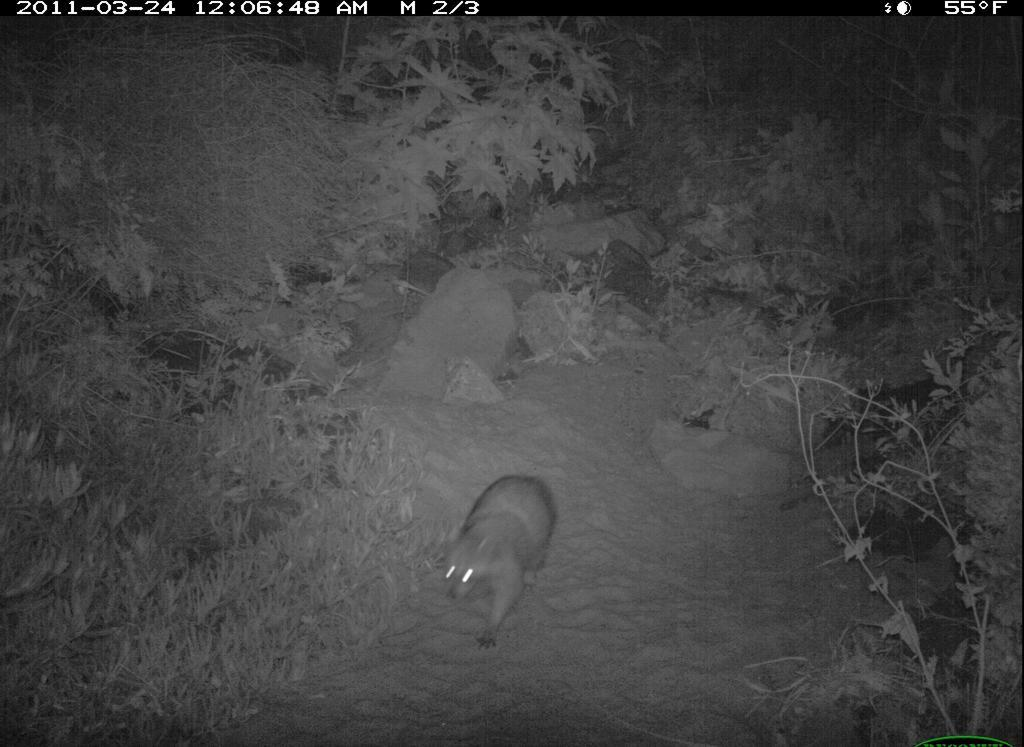raccoon: (435, 465, 565, 656)
